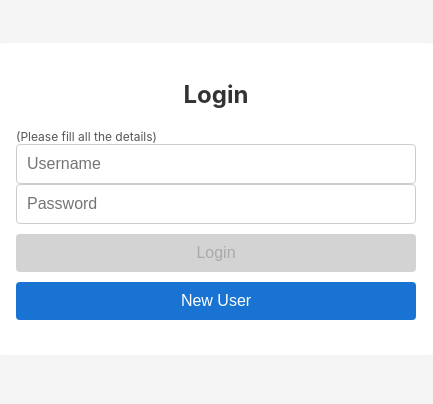
Register button should be enabled only after filling all the fields
Click the button with test id "toggle-user-type".
click(216, 300)  # box [16,282,416,320]
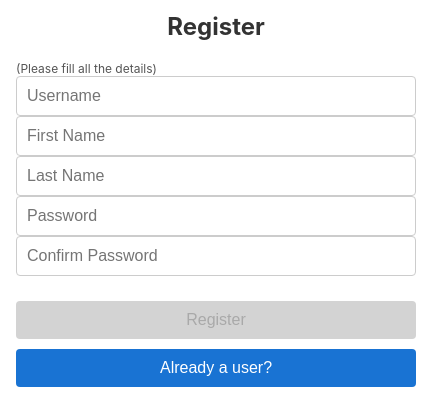
Expected: the button with test id "login-id" is disabled, [16,301,416,339]
Type "testUser" into the field with placeholder "Username".
click(216, 96); type("testUser")  # box [16,76,416,116]
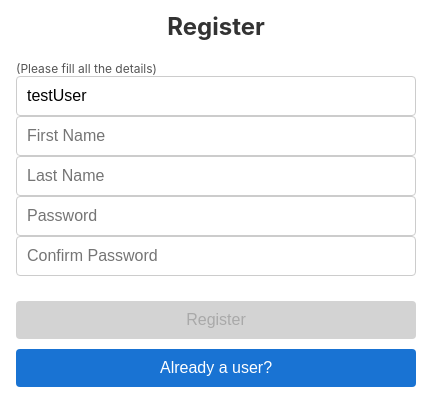
Type "John" into the field with placeholder "First Name".
click(216, 136); type("John")  # box [16,116,416,156]
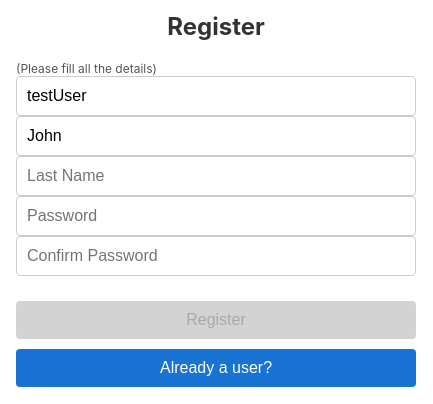
Type "Doe" into the field with placeholder "Last Name".
click(216, 176); type("Doe")  # box [16,156,416,196]
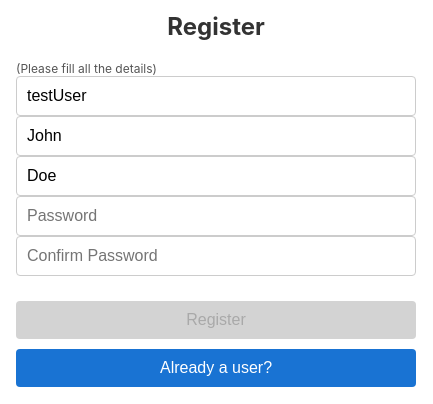
Type "password123" into the password field with placeholder "Password".
click(216, 216); type("password123")  # box [16,196,416,236]
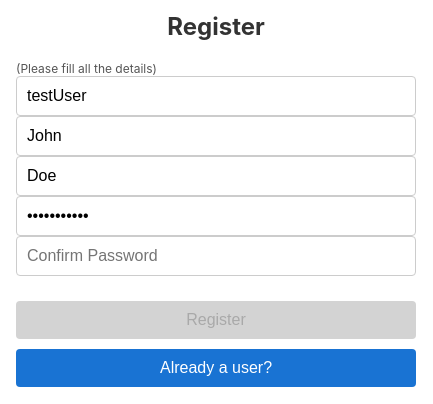
Type "password123" into the password field with placeholder "Confirm Password".
click(216, 256); type("password123")  # box [16,236,416,276]
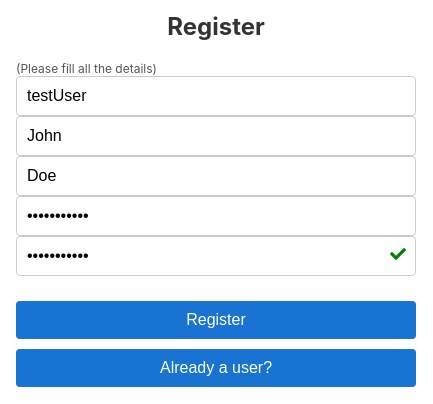
Expected: the button with test id "login-id" is enabled, [16,301,416,339]
